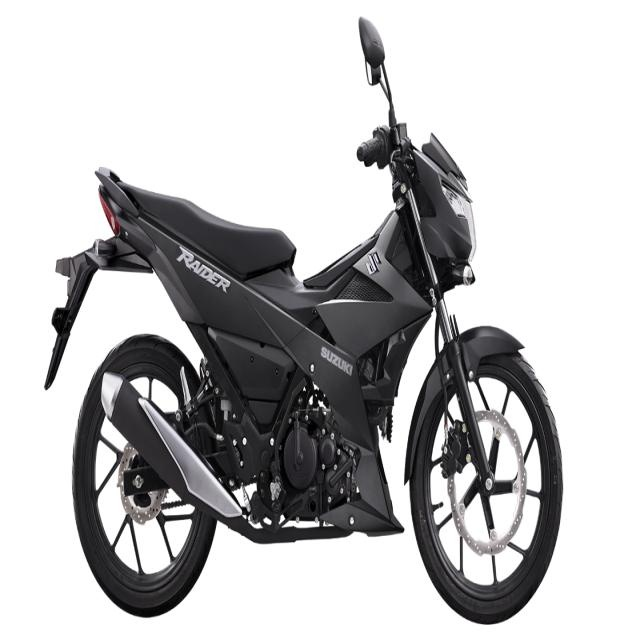Motorcycle: (44, 9, 564, 625)
